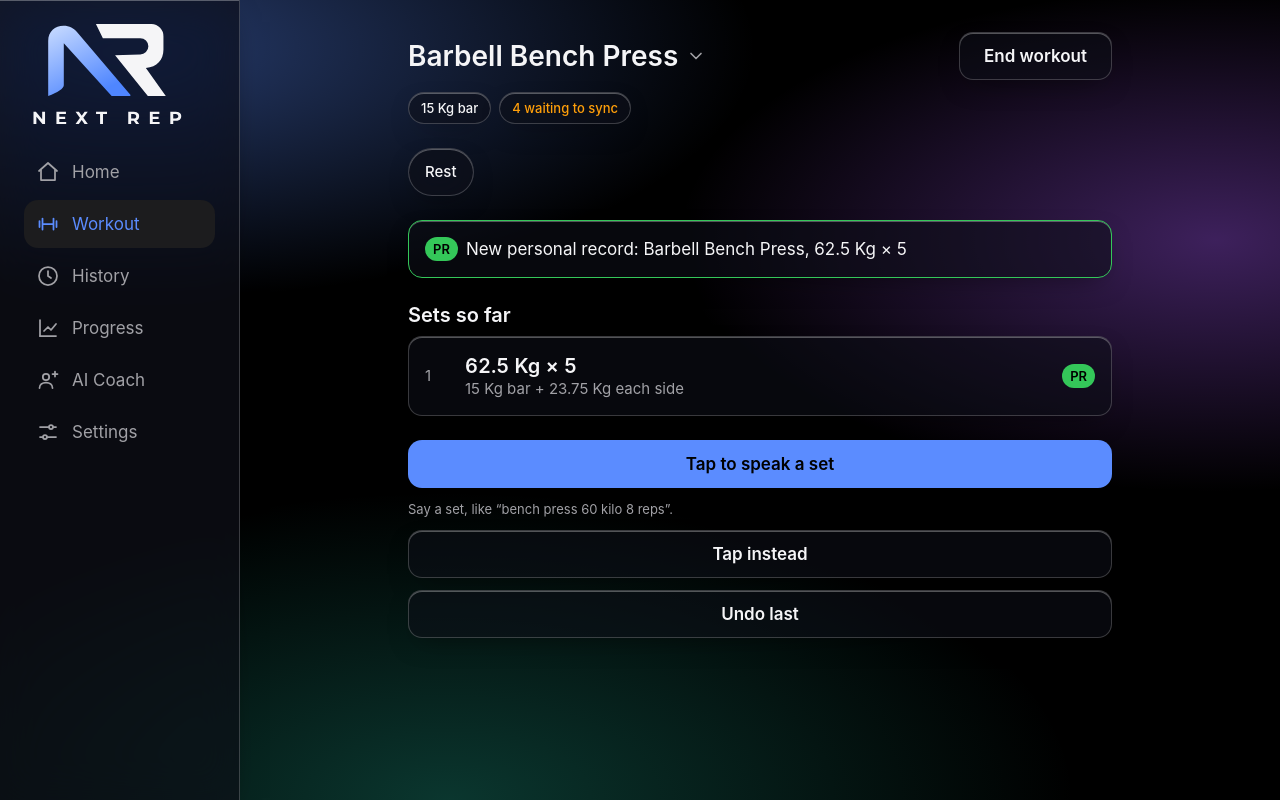
Scenario: record badges on the workout › takes the banner and badge away when the record set is undone
The image size is (1280, 800).
Expected: the text "New personal record: Barbell Bench Press, 62.5 Kg × 5" is shown, [466,237,907,261]
Click the button "Undo last" at (760, 614), box [408,590,1112,638]
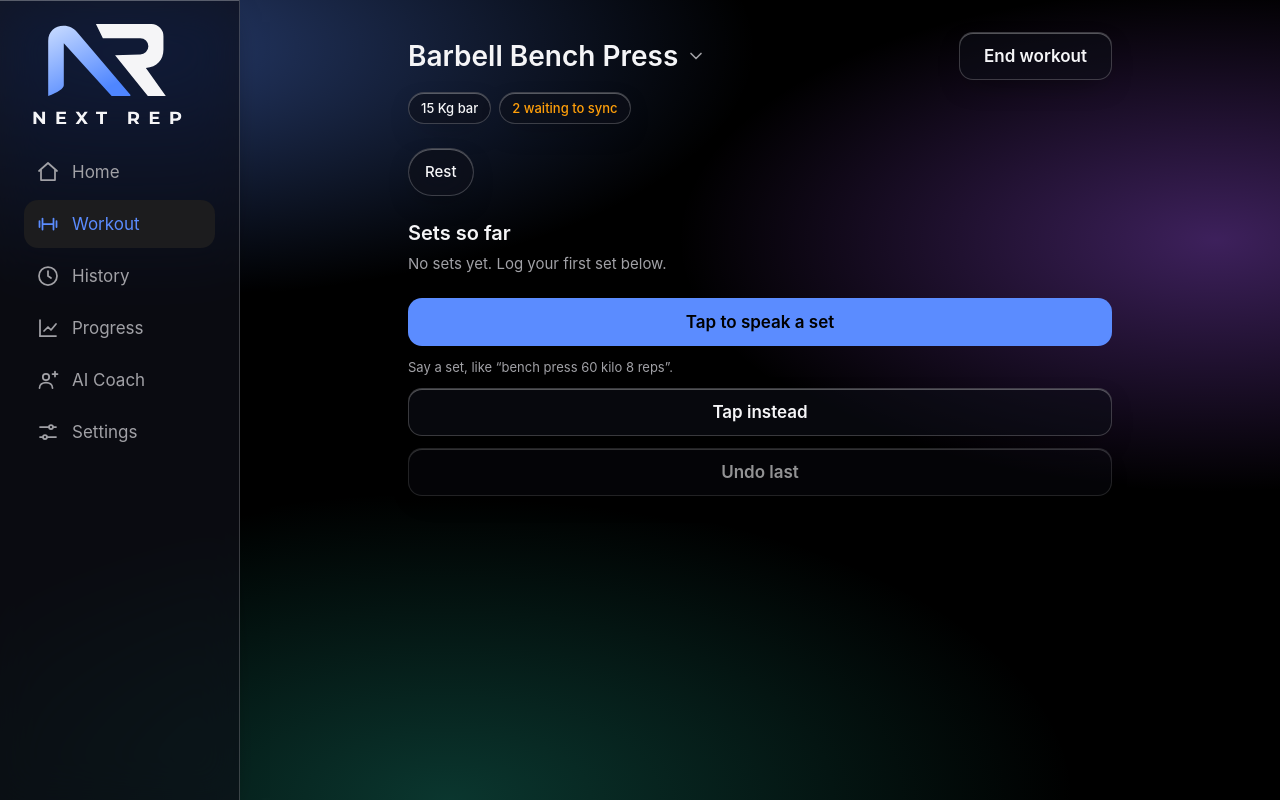
Expected: the text "New personal record" is gone
Expected: the text "personal record" is gone
